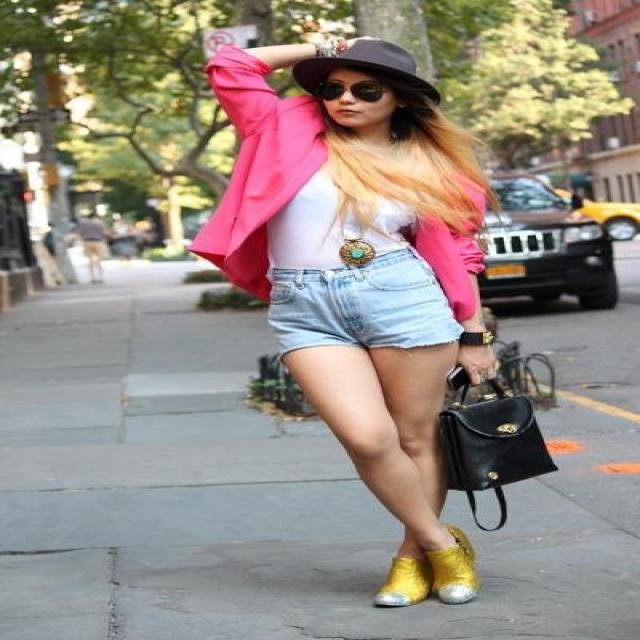bag: (434, 323, 555, 529)
hat: (286, 40, 414, 89)
jacket: (189, 45, 491, 324)
shirt: (259, 173, 416, 276)
shoe: (378, 528, 473, 604)
shorts: (266, 253, 462, 357)
sunglass: (299, 68, 395, 112)
